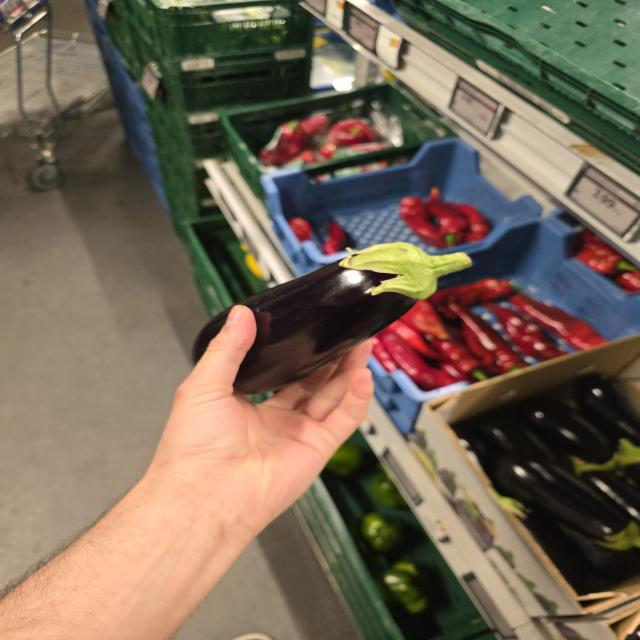Eggplant: (234, 243, 472, 396)
